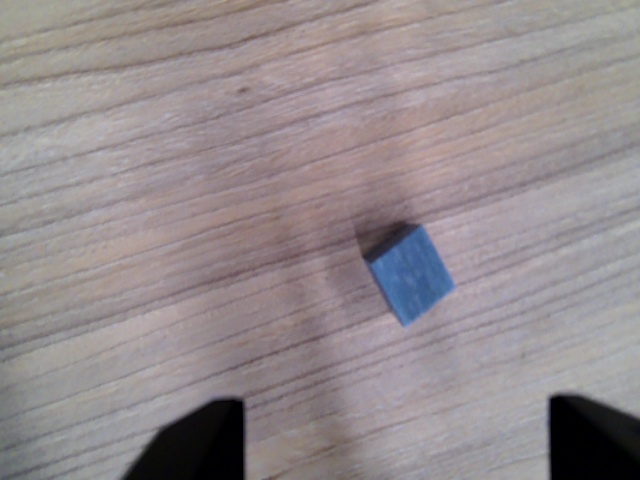stone: (363, 219, 461, 329)
